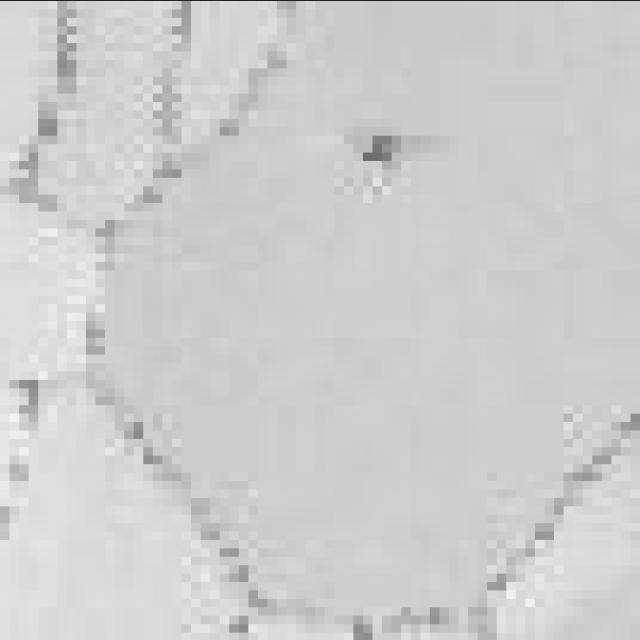good_void: (331, 112, 429, 188)
